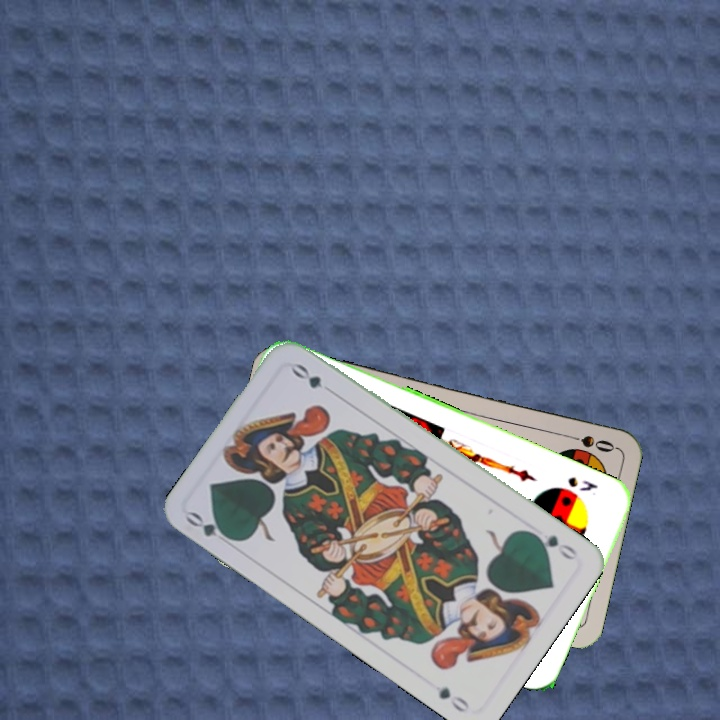GO: (182, 507, 238, 549), (526, 528, 581, 563)
SK: (563, 472, 601, 494)
SO: (559, 429, 618, 455)
